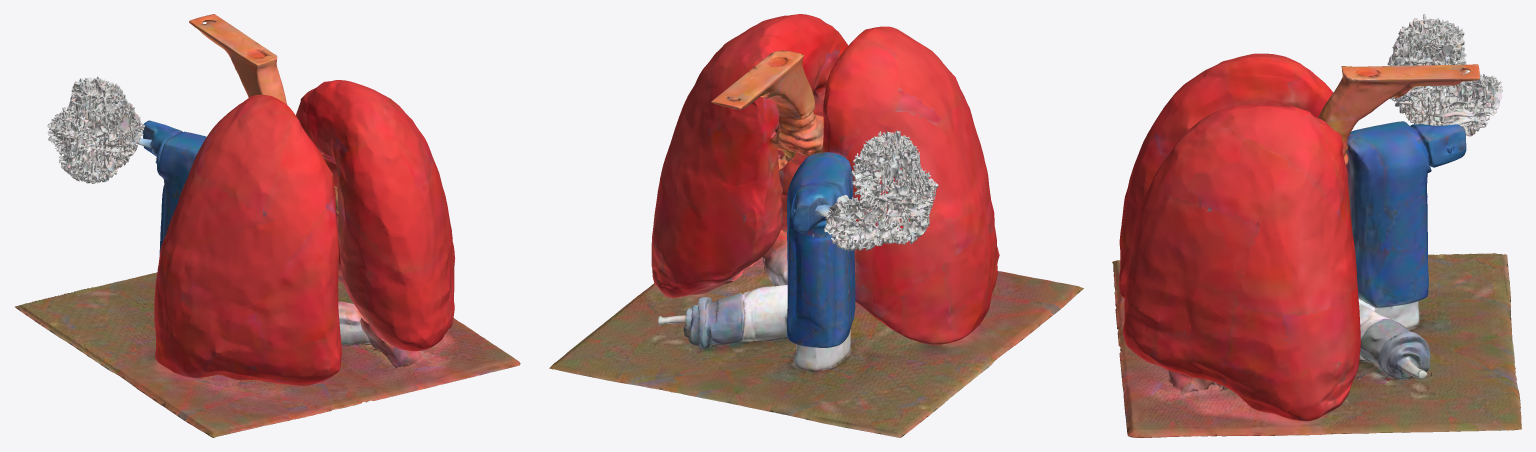
File: treatments-asthma.glb
3 views of the same model, side by side, from view 1: azimuth 30°, elevation 25°; view 2: azimuth 150°, elevation 25°; view 3: azimuth 270°, elevation 25° (orthographic). The views are drawn at different scales.
Visible parts, largest first — view 1: Asma3Model; view 2: Asma3Model; view 3: Asma3Model.
Part boxes in pixels (<box>): Asma3Model: <box>15,14,520,437</box>; Asma3Model: <box>549,14,1083,437</box>; Asma3Model: <box>1112,14,1521,437</box>.
Size of the model in its own units: 2.07 by 1.59 by 2.06.
1 material, 1 textured.
